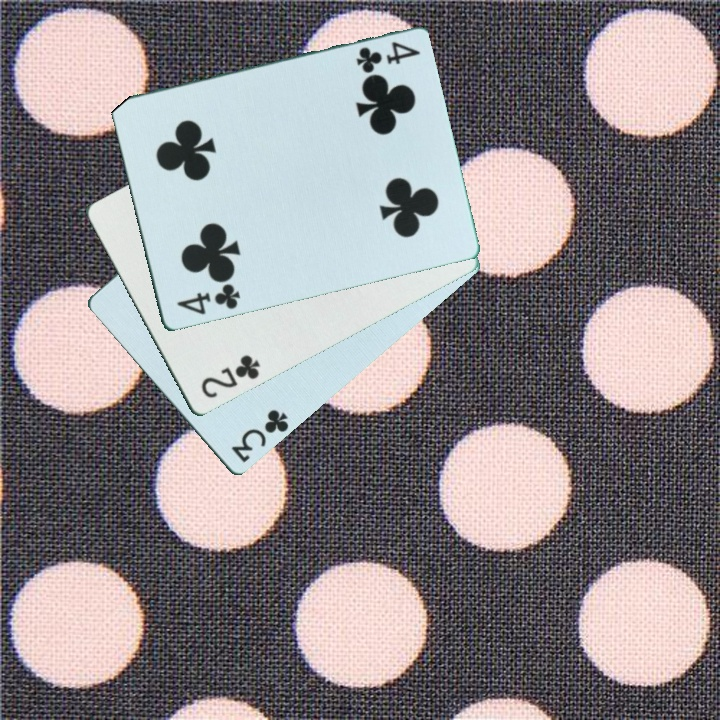2c: (197, 351, 263, 402)
3c: (227, 406, 292, 467)
4c: (352, 38, 423, 76), (173, 280, 243, 318)
